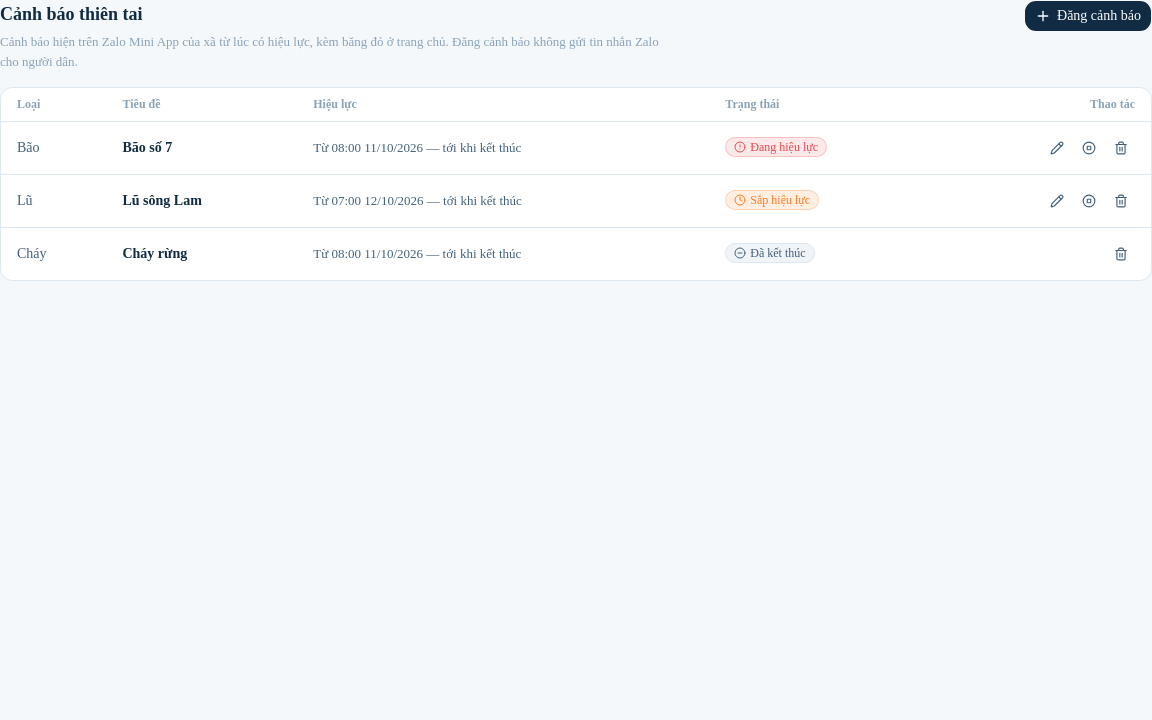
Test case: posting an alert › Lưu on an empty form sends nothing and names the missing fields
Click the button "Đăng cảnh báo" at {"x": 1088, "y": 16}, box top-left (1024, 0), bottom-right (1151, 32)
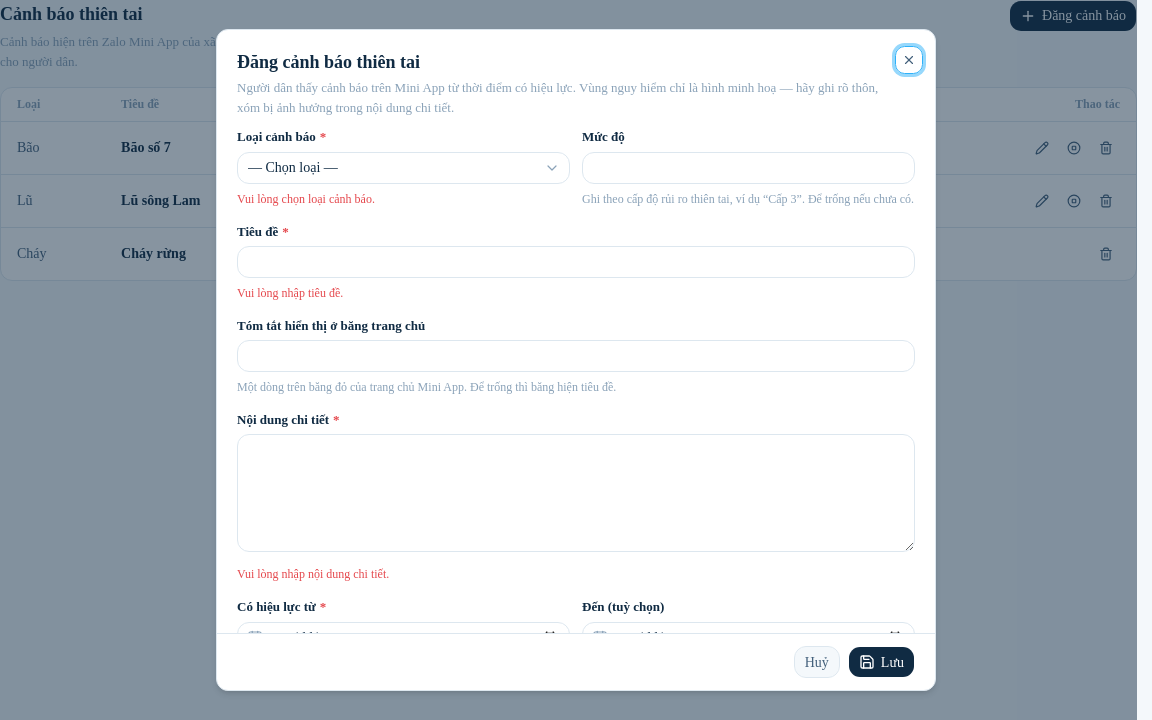
Now the text "Vui lòng chọn loại cảnh báo." is shown, box top-left (237, 192), bottom-right (375, 206)
Now the text "Vui lòng nhập tiêu đề." is shown, box top-left (237, 286), bottom-right (343, 300)
